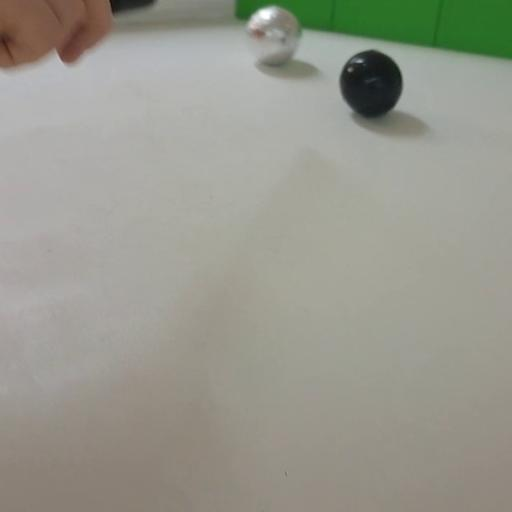alive: (246, 5, 300, 66)
dead: (340, 50, 402, 117)
